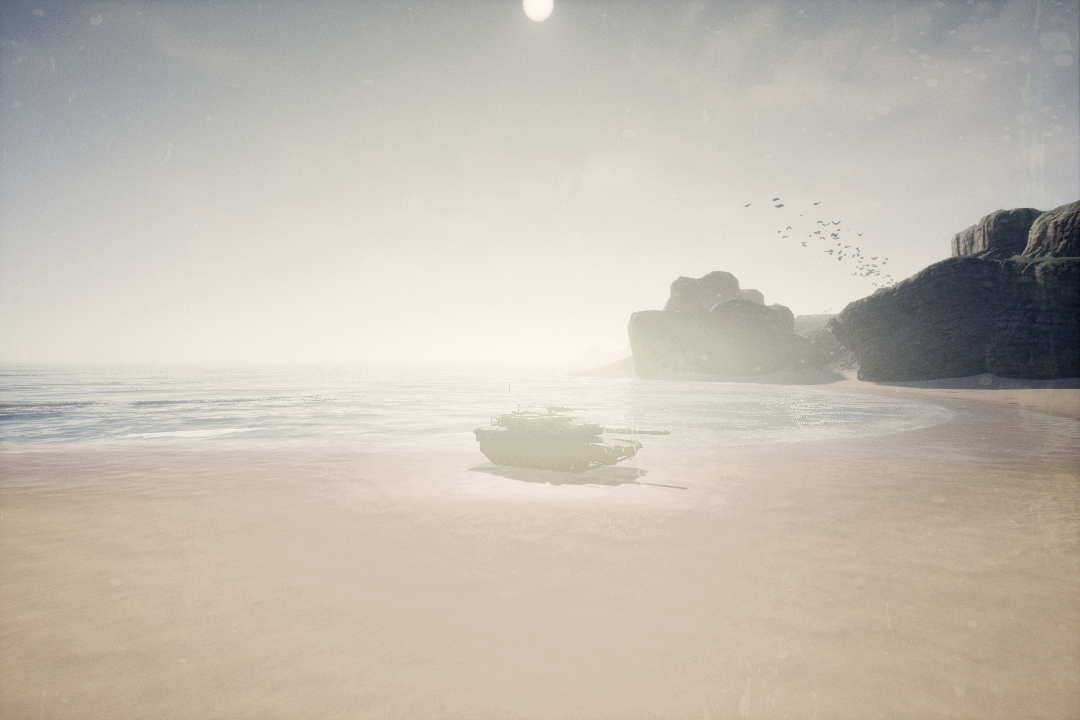tank: (467, 402, 669, 479)
